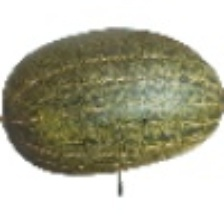honeydew: (24, 57, 161, 206)
